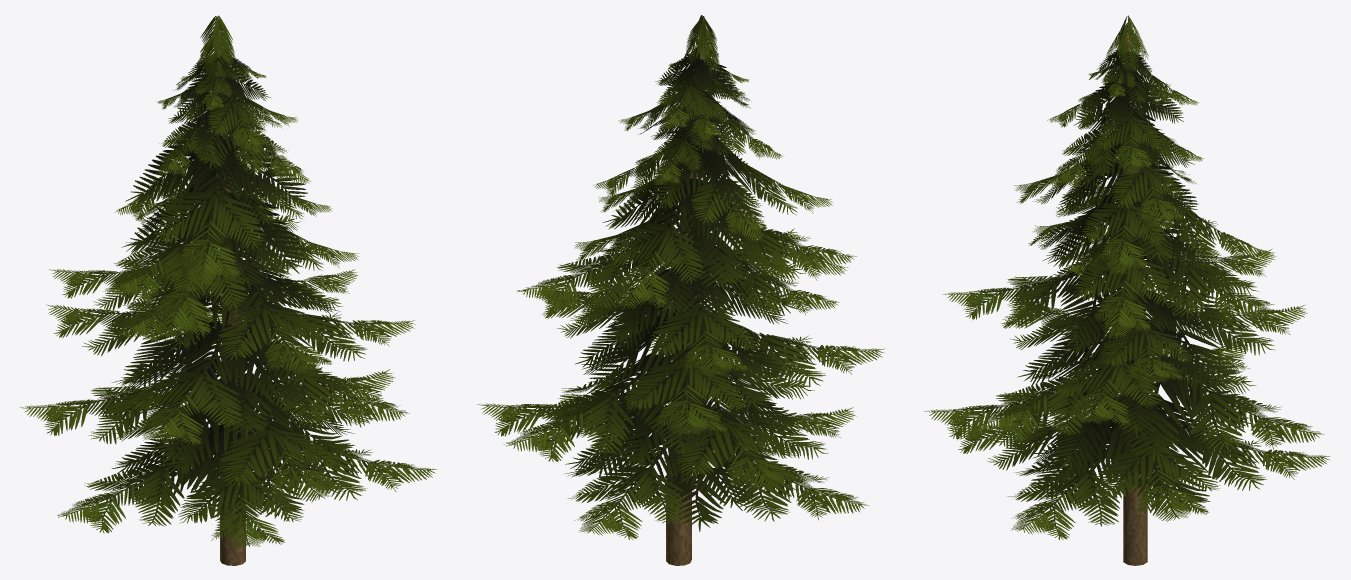
The model's file is pinheiro.glb.
3 renders of one model, left to right at view 1: azimuth 30°, elevation 25°; view 2: azimuth 150°, elevation 25°; view 3: azimuth 270°, elevation 25°, orthographic. The views are drawn at different scales.
Parts seen in each view (by area): view 1: Leaves/001_Leavs_0, Trank.001_Trank_0; view 2: Leaves/001_Leavs_0, Trank.001_Trank_0; view 3: Leaves/001_Leavs_0, Trank.001_Trank_0.
Part boxes in pixels (box(x1,y1,x2,y2)): Leaves/001_Leavs_0: box(19, 15, 436, 548); Trank.001_Trank_0: box(214, 29, 245, 565); Leaves/001_Leavs_0: box(477, 15, 884, 539); Trank.001_Trank_0: box(666, 28, 705, 565); Leaves/001_Leavs_0: box(924, 15, 1330, 539); Trank.001_Trank_0: box(1121, 28, 1147, 565).
Bounding box in the file's own units: 217 × 308 × 217.
2 materials, 2 textured.
